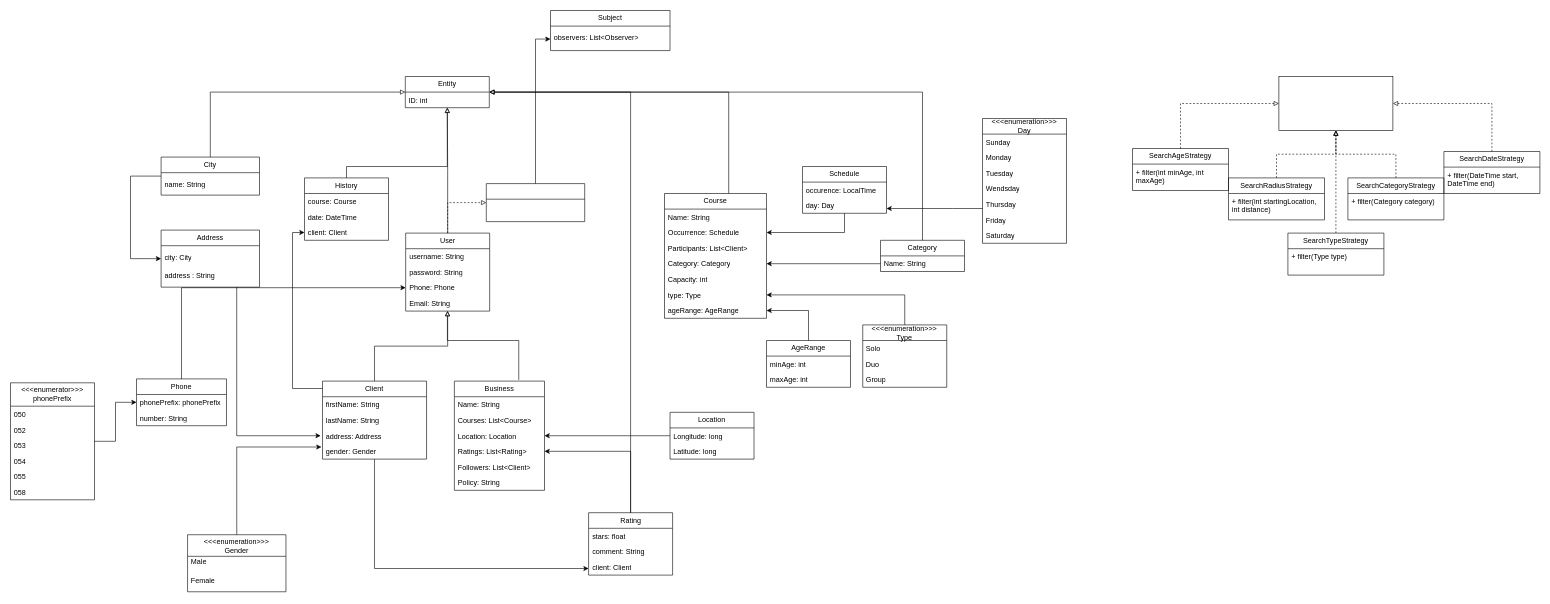
This 1550x604 diagram has some shape labels left out. The shapes that lost their labels are listed below. From the top down, each one's centre as x and y in pixels, then its label:
pixel 1335 103: <<Interface>> SearchStrategyInterface + filter(Type1, Type2):
pixel 535 202: <<Interface>> Observer
